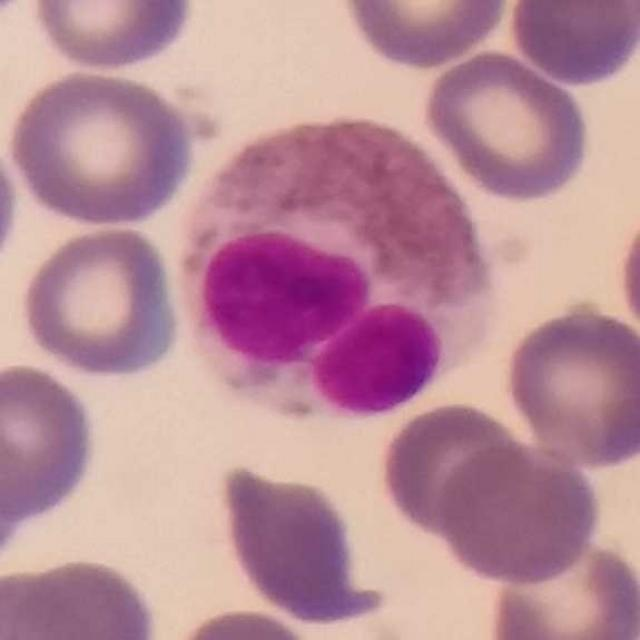eosino: (178, 116, 500, 424)
